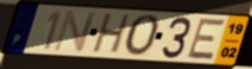1: (43, 10, 63, 51)
3: (159, 15, 193, 60)
E: (184, 17, 228, 62)
H: (90, 13, 133, 56)
N: (51, 9, 99, 53)
O: (123, 13, 163, 58)
